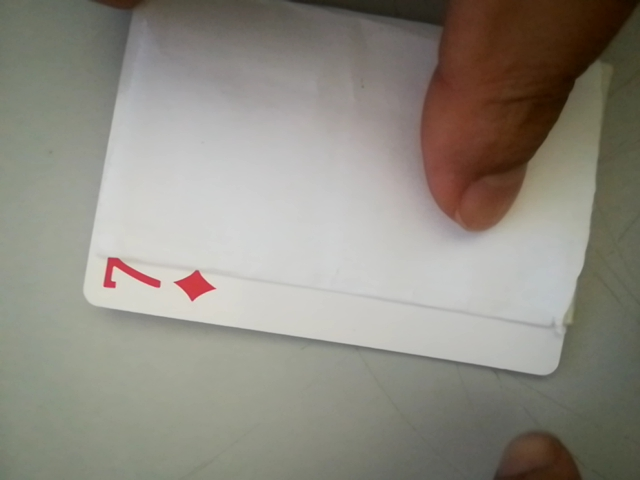fk 7: (91, 256, 229, 311)
